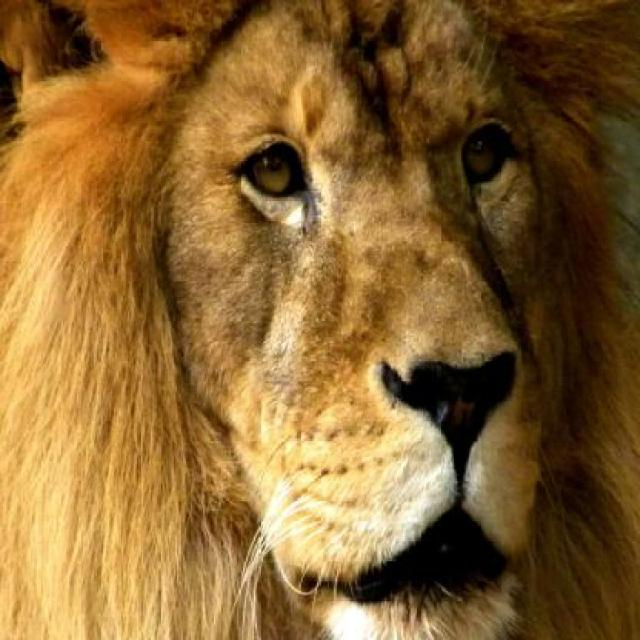Lion: (1, 6, 617, 639)
